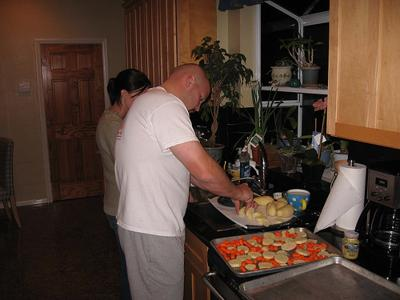person: (114, 62, 256, 300)
